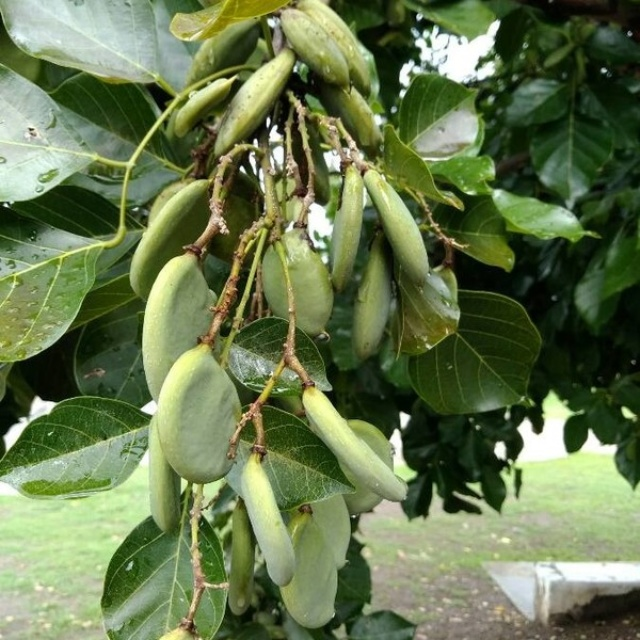obstacle: (105, 46, 445, 571)
